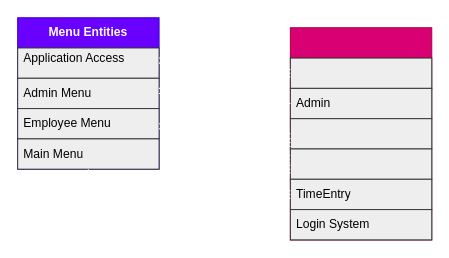
The diagram is 449 pixels wide and 258 high, and some of its shapes have lost their labels. The box of each missing label's shape, as (x1, y1, x2, y2) in pixels:
Data Entities: (289, 27, 432, 240)
Employee: (289, 118, 432, 149)
Payroll: (289, 148, 432, 179)
User: (289, 57, 432, 88)
